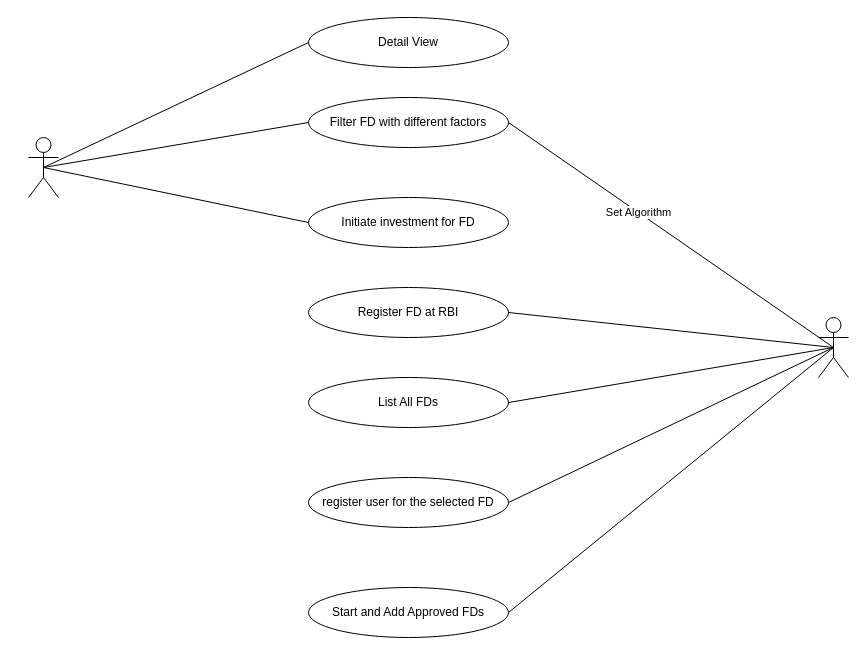
Some shapes in this 866 by 655 pixel diagram are drawn without their labels. Each missing label, with the box of its shape:
Bank: (818, 316, 848, 378)
Customer: (28, 136, 58, 198)
